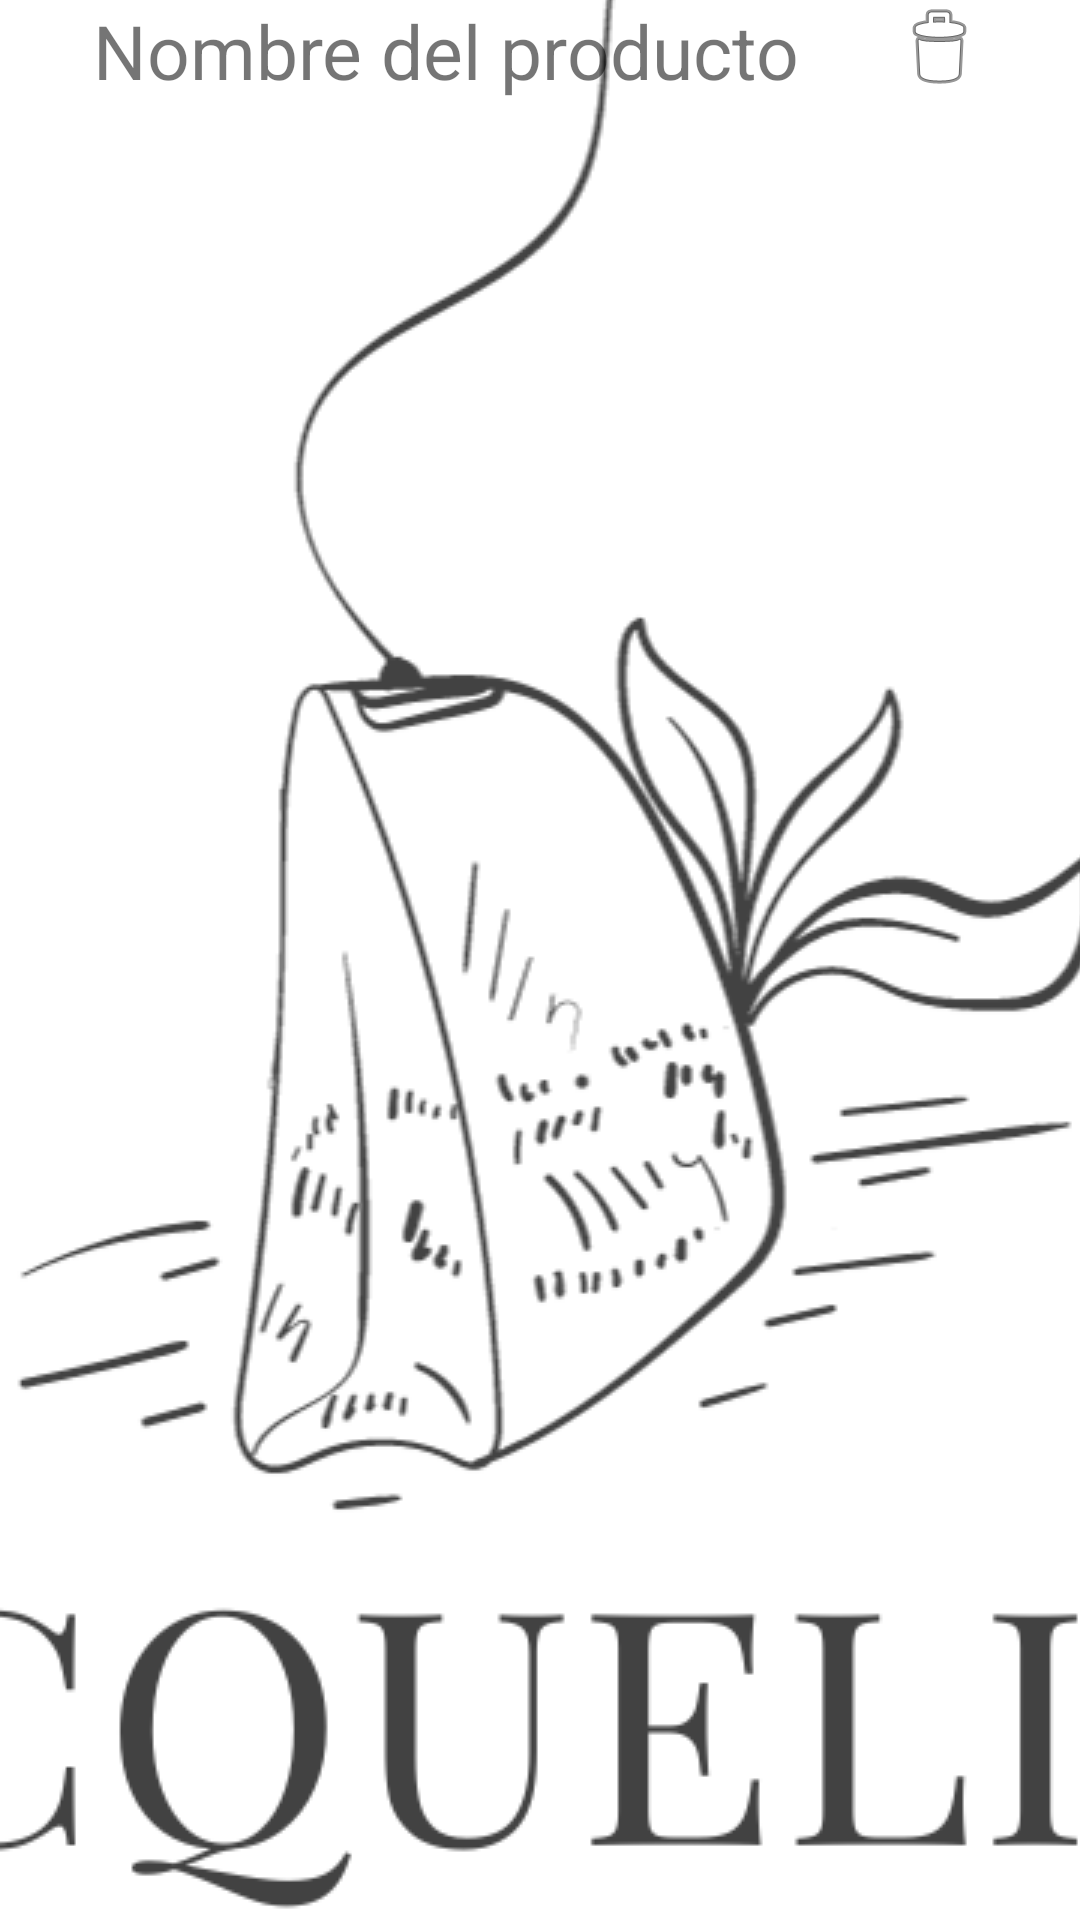

Icons on this 1080px x 1920px Android screen, each with the point to tap as (x=x, y=y):
delete: (x=939, y=46)
